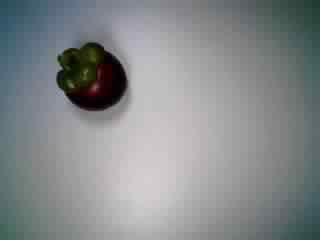mangosteen: (53, 37, 126, 117)
